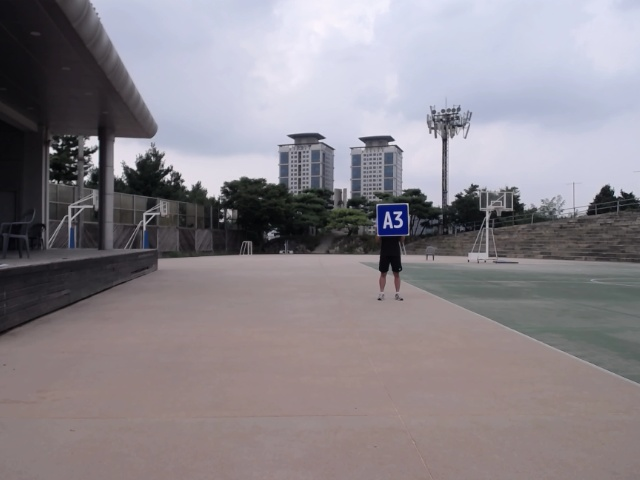delivery_a3: (377, 203, 409, 236)
